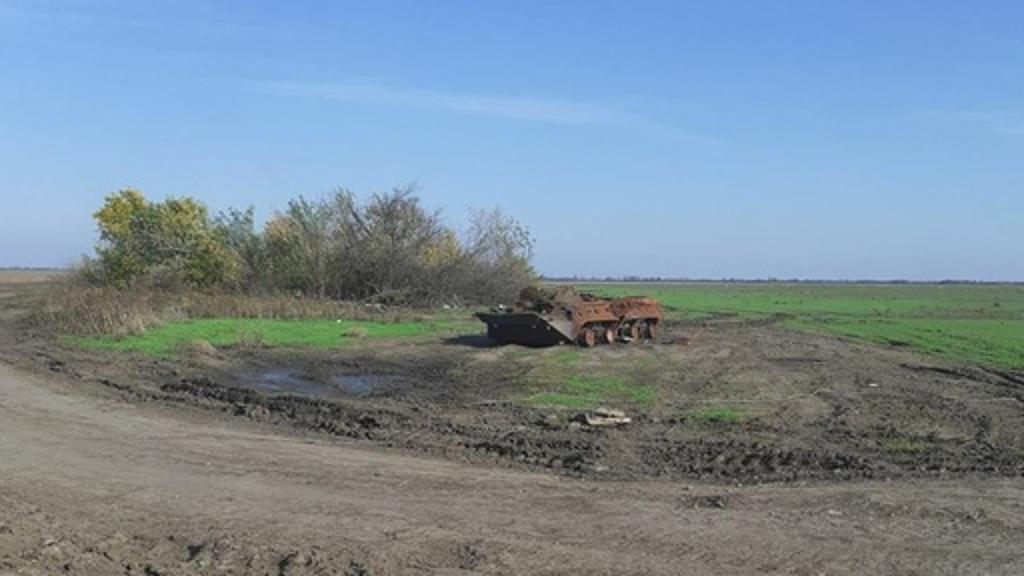APC-IFV: (472, 274, 670, 360)
